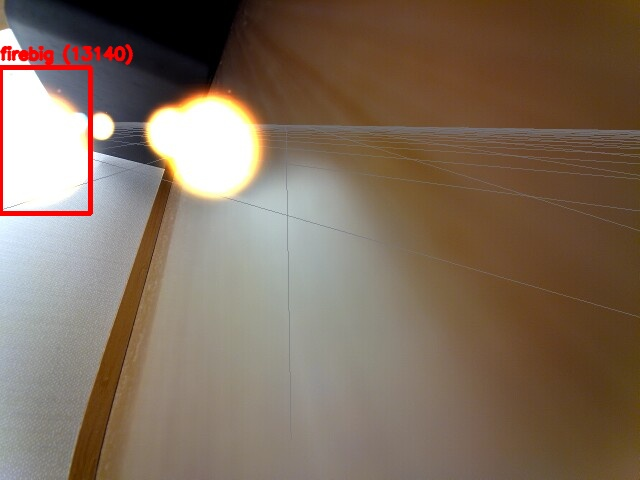firebig: (0, 67, 90, 213)
